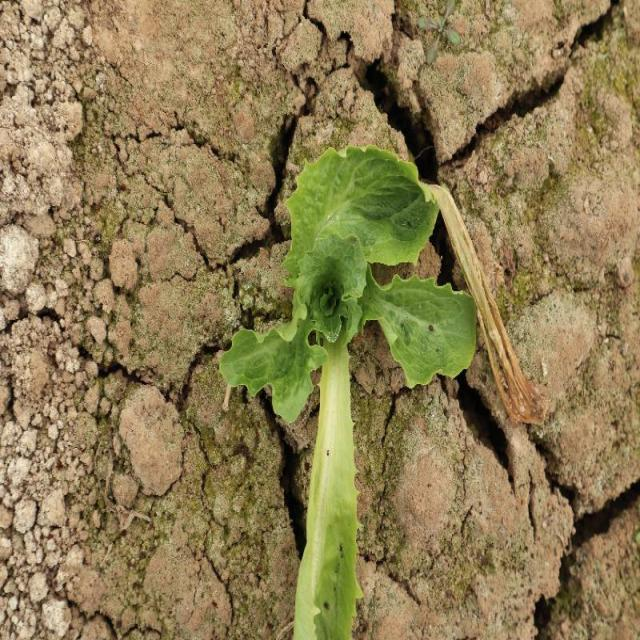crop: (218, 147, 481, 429)
